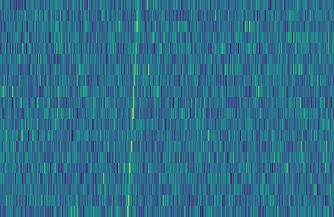signal: (121, 0, 142, 217)
